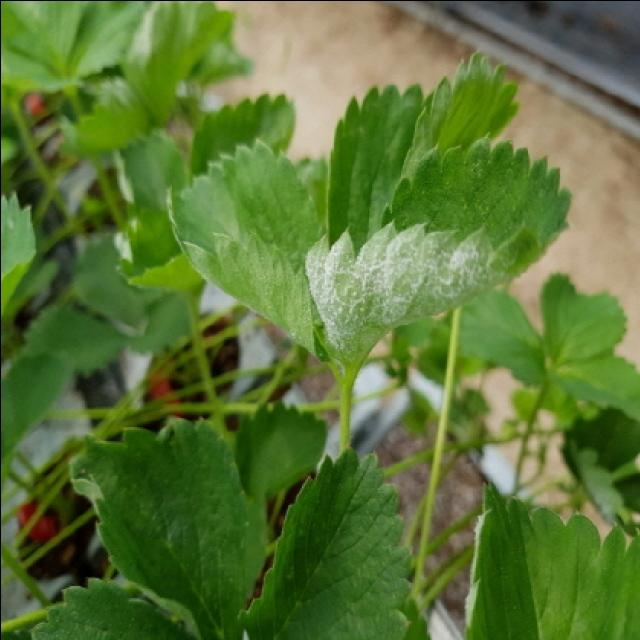Powdery Mildew Leaf: (303, 133, 572, 389), (463, 481, 638, 640)
